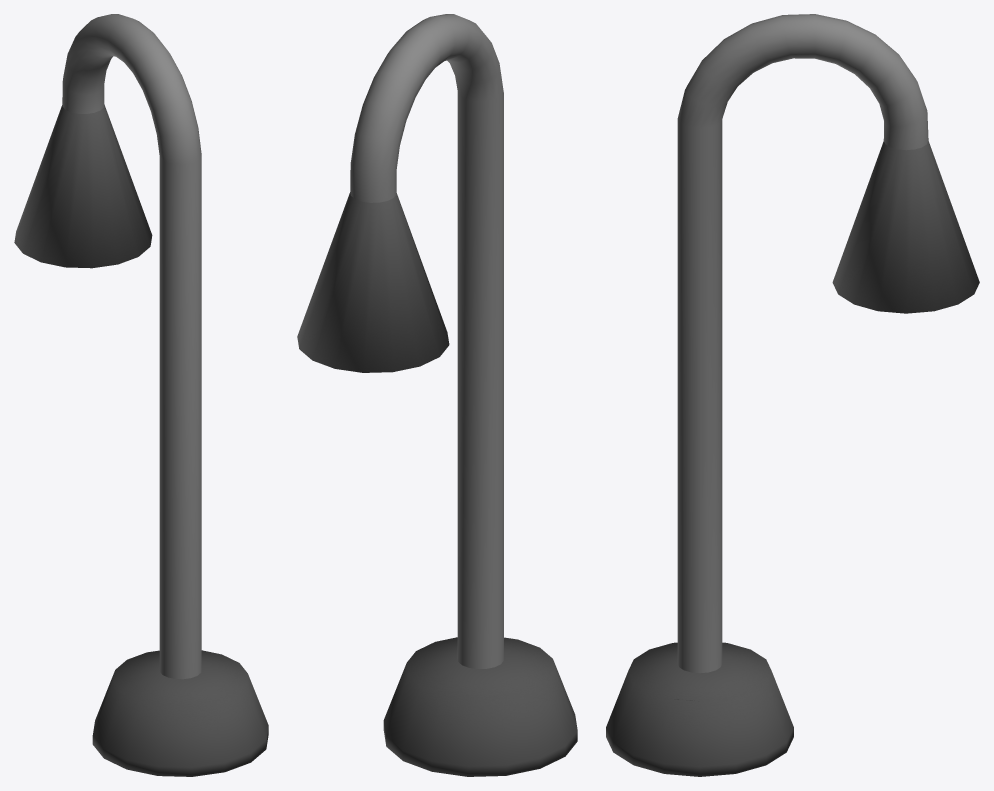
The model's file is Lamblamcık.fbx.
3 renders of one model, left to right at view 1: azimuth 30°, elevation 25°; view 2: azimuth 150°, elevation 25°; view 3: azimuth 270°, elevation 25°, orthographic. The views are drawn at different scales.
Parts seen in each view (by area): view 1: Circle; view 2: Circle; view 3: Circle.
Boxes of the visible parts, x1,y1,x2,y2 form: Circle: (14, 14, 268, 776); Circle: (297, 14, 577, 776); Circle: (606, 14, 979, 776).
Bounding box in the file's own units: 35.91 × 152 × 71.47.
